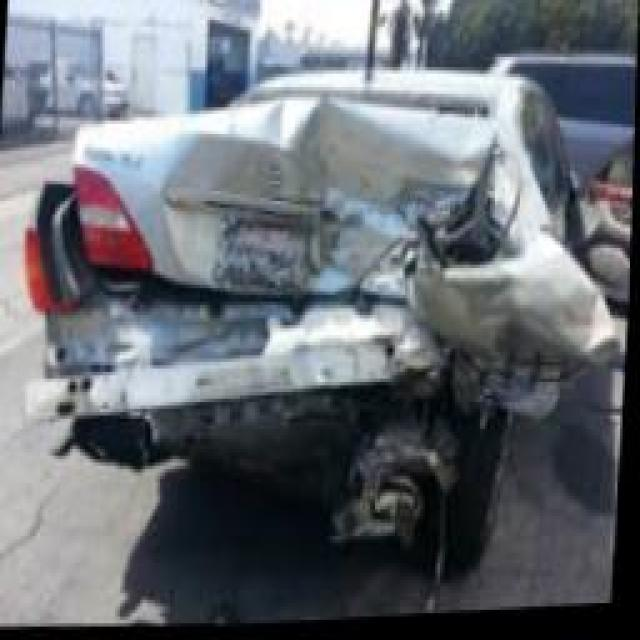Bumper: (26, 250, 622, 424)
Dickey: (74, 97, 502, 320)
